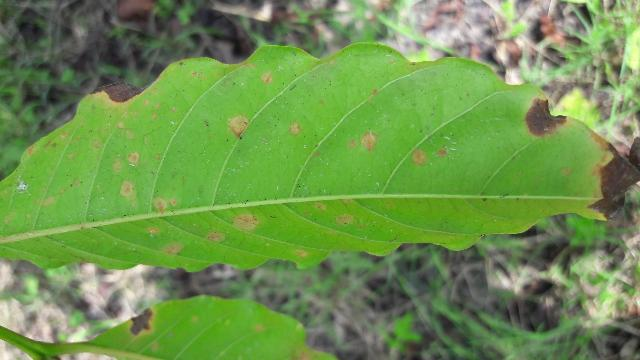rust_level_3: (1, 46, 638, 267)
